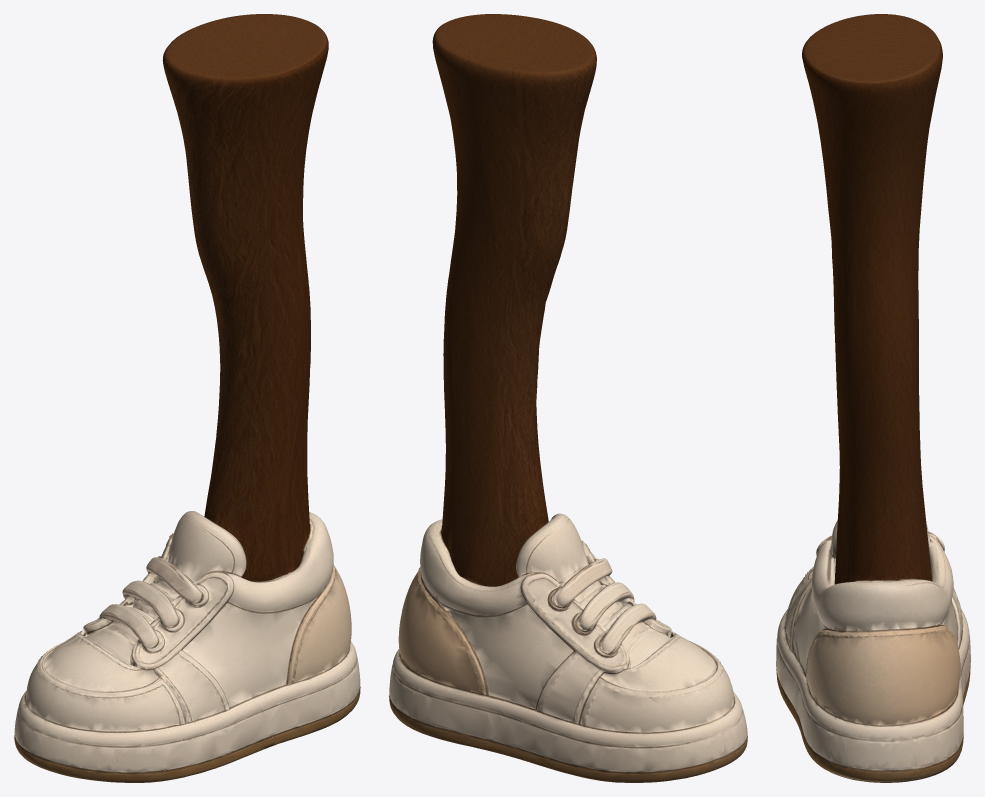
File: part-leg-l.glb
3 views of the same model, side by side, from view 1: azimuth 30°, elevation 25°; view 2: azimuth 150°, elevation 25°; view 3: azimuth 270°, elevation 25° (orthographic).
Parts seen in each view (by area): view 1: mesh_node; view 2: mesh_node; view 3: mesh_node.
Boxes of the visible parts, x1=… form: mesh_node: x1=14, y1=14, x2=360, y2=782; mesh_node: x1=389, y1=14, x2=747, y2=782; mesh_node: x1=776, y1=14, x2=970, y2=782.
Size of the model in its own units: 0.9832 by 1.9 by 0.4889.
Materials: 1 (1 with a texture image).
